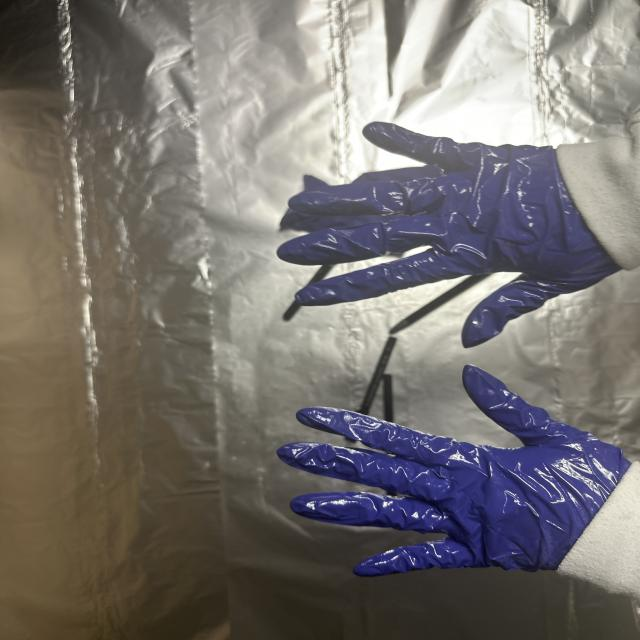gloves_contaminated: (278, 122, 620, 348), (277, 365, 631, 576)
